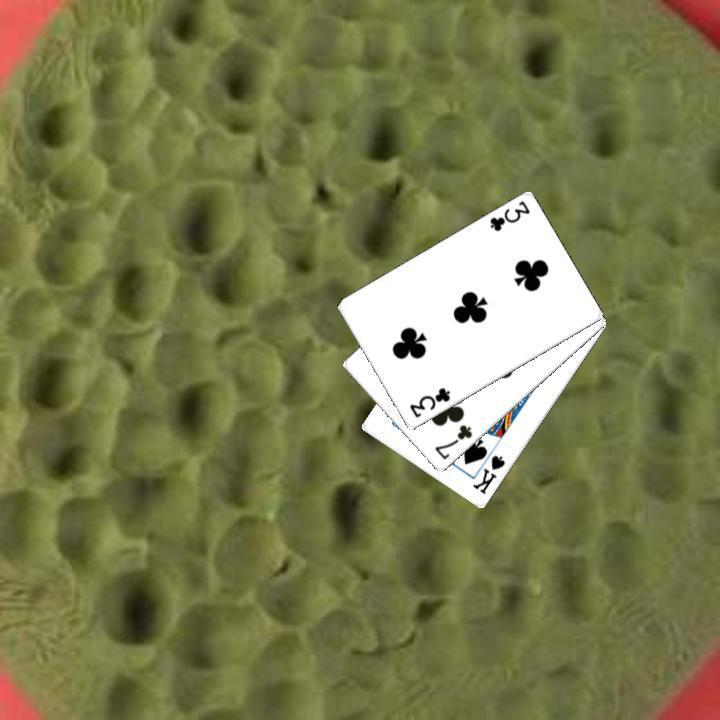3: (485, 196, 532, 234), (405, 383, 452, 420)
7: (430, 420, 475, 462)
K: (468, 451, 507, 497)
